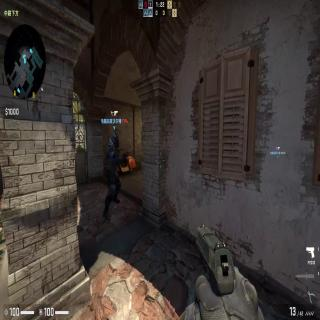CT-Body: (104, 134, 126, 224)
